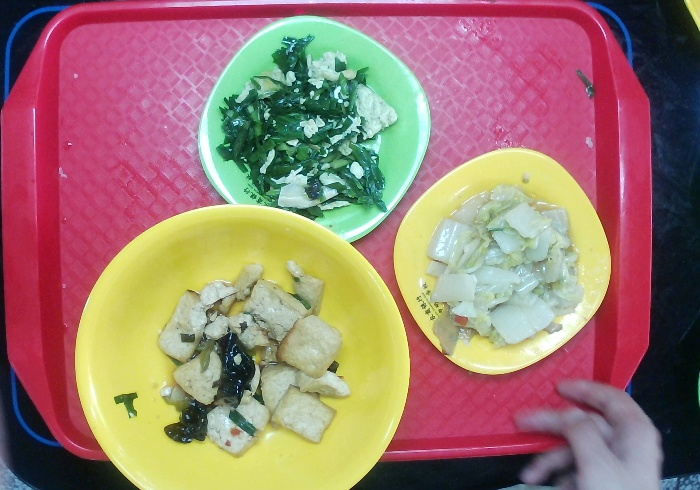YKMZ-Huang_Se_Fang_Die: (392, 144, 615, 380)
YKMZ-Huang_Se_Tang_Wan: (67, 197, 415, 490)
YKMZ-Lv_Se_Fang_Die: (188, 13, 435, 249)
